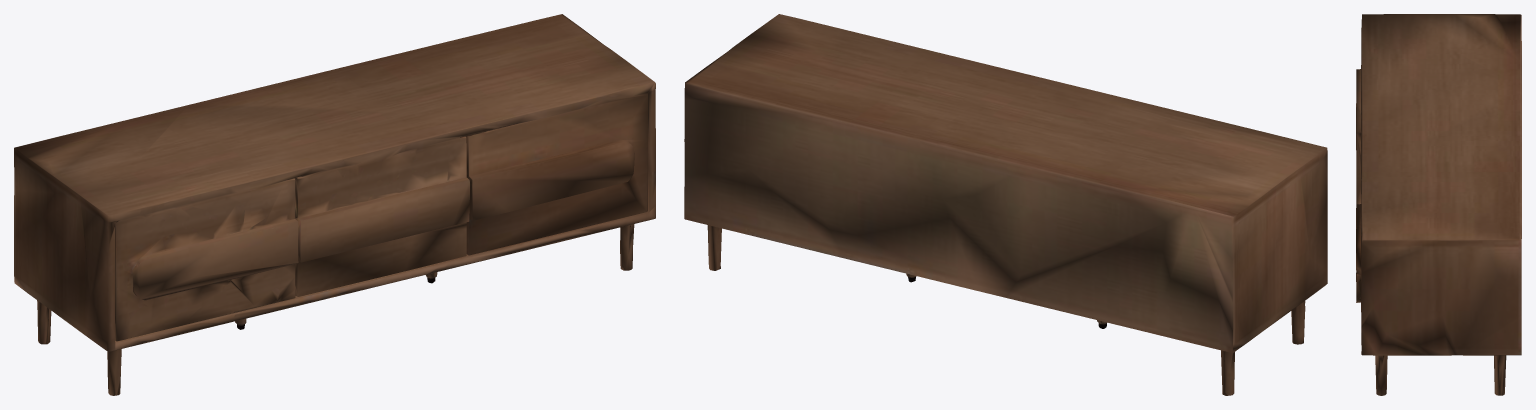
Rendered from credenza.glb.
The picture shows the model from 3 angles, left to right: view 1: azimuth 30°, elevation 25°; view 2: azimuth 150°, elevation 25°; view 3: azimuth 270°, elevation 25°; orthographic projection. The views are drawn at different scales.
Parts seen in each view (by area): view 1: world; view 2: world; view 3: world.
Boxes of the visible parts, box(x1,y1,x2,y2) form: world: box(14, 14, 655, 395); world: box(684, 14, 1327, 395); world: box(1356, 14, 1521, 395).
Bounding box in the file's own units: 1.8 × 0.5984 × 0.5574.
Materials: 1 (1 with a texture image).
